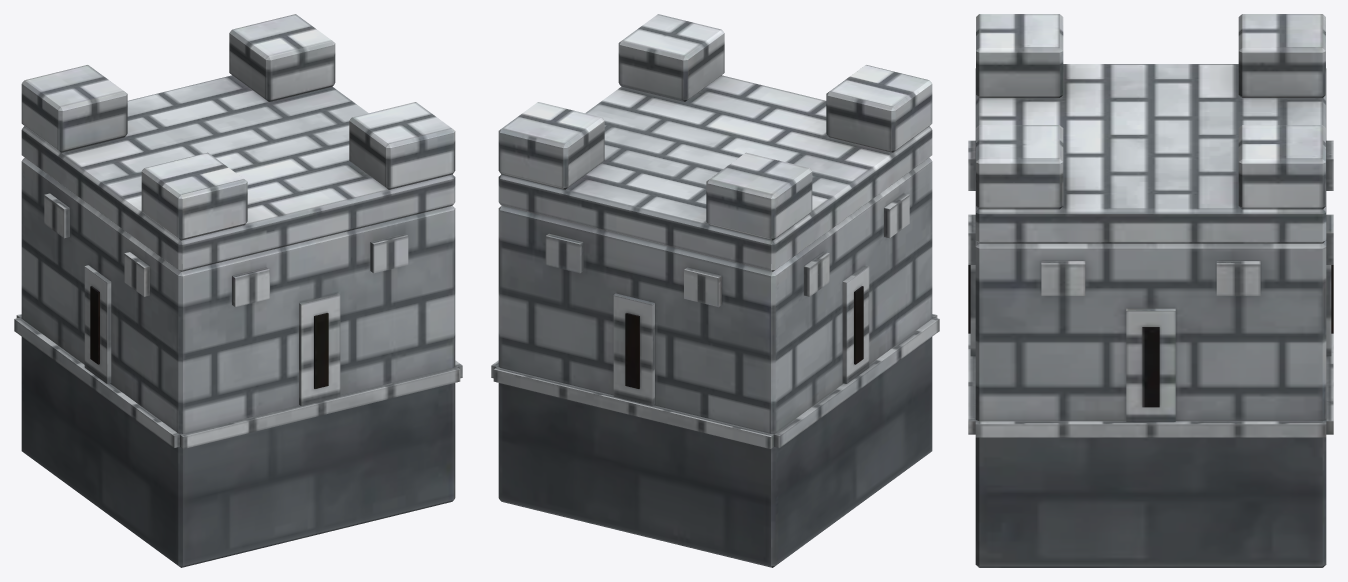
The model's file is wall_human.glb.
3 renders of one model, left to right at view 1: azimuth 30°, elevation 25°; view 2: azimuth 150°, elevation 25°; view 3: azimuth 270°, elevation 25°, orthographic. The views are drawn at different scales.
Visible parts, largest first — view 1: Static_Mesh; view 2: Static_Mesh; view 3: Static_Mesh.
Boxes of the visible parts, x1,y1,x2,y2 form: Static_Mesh: (14, 14, 462, 567); Static_Mesh: (491, 14, 939, 567); Static_Mesh: (968, 14, 1333, 567).
Size of the model in its own units: 2.5 by 3.09 by 2.5.
Materials: 1 (1 with a texture image).
